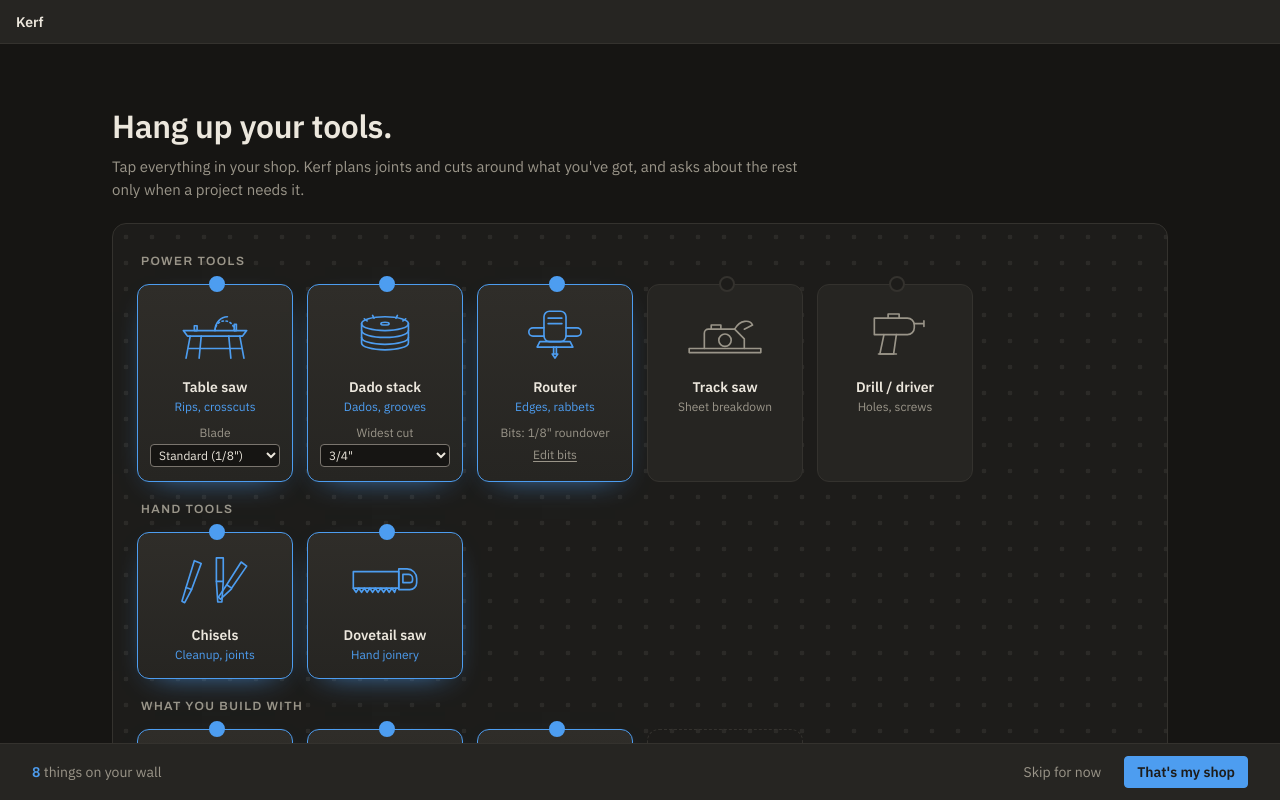
Test: <YourShop> › hangs the track saw on a tap and shows its blade choice
Click the button "Track saw Sheet breakdown" at {"x": 725, "y": 358}, box [648,285,802,430]
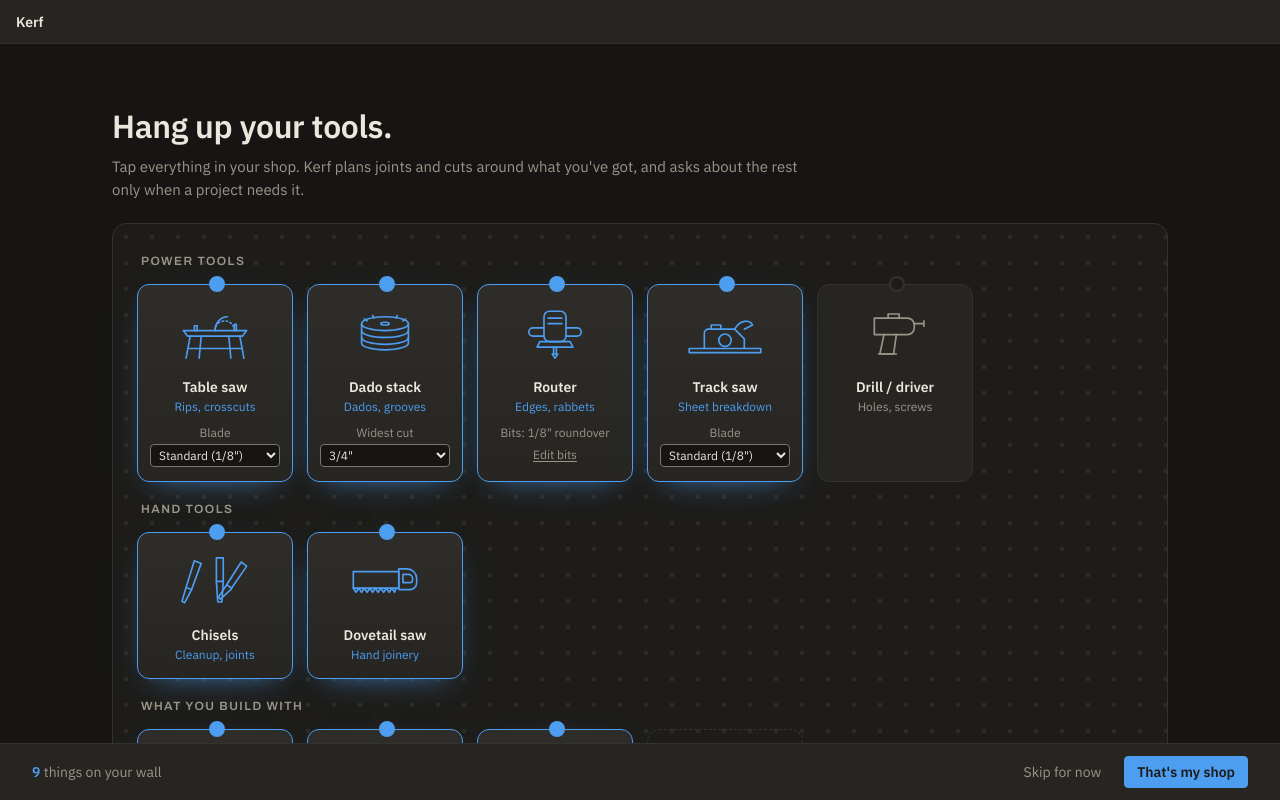
Expected: the 2nd dropdown labelled "Blade" is shown, [660,444,790,467]
Expected: the element showing "9 things on your wall" is shown, [32,763,162,781]
